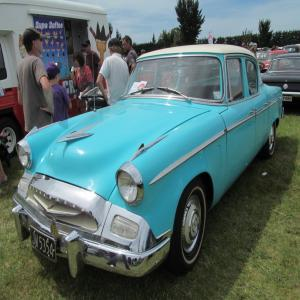Vehicle-registration-plate: (31, 228, 58, 264), (283, 97, 293, 105)
